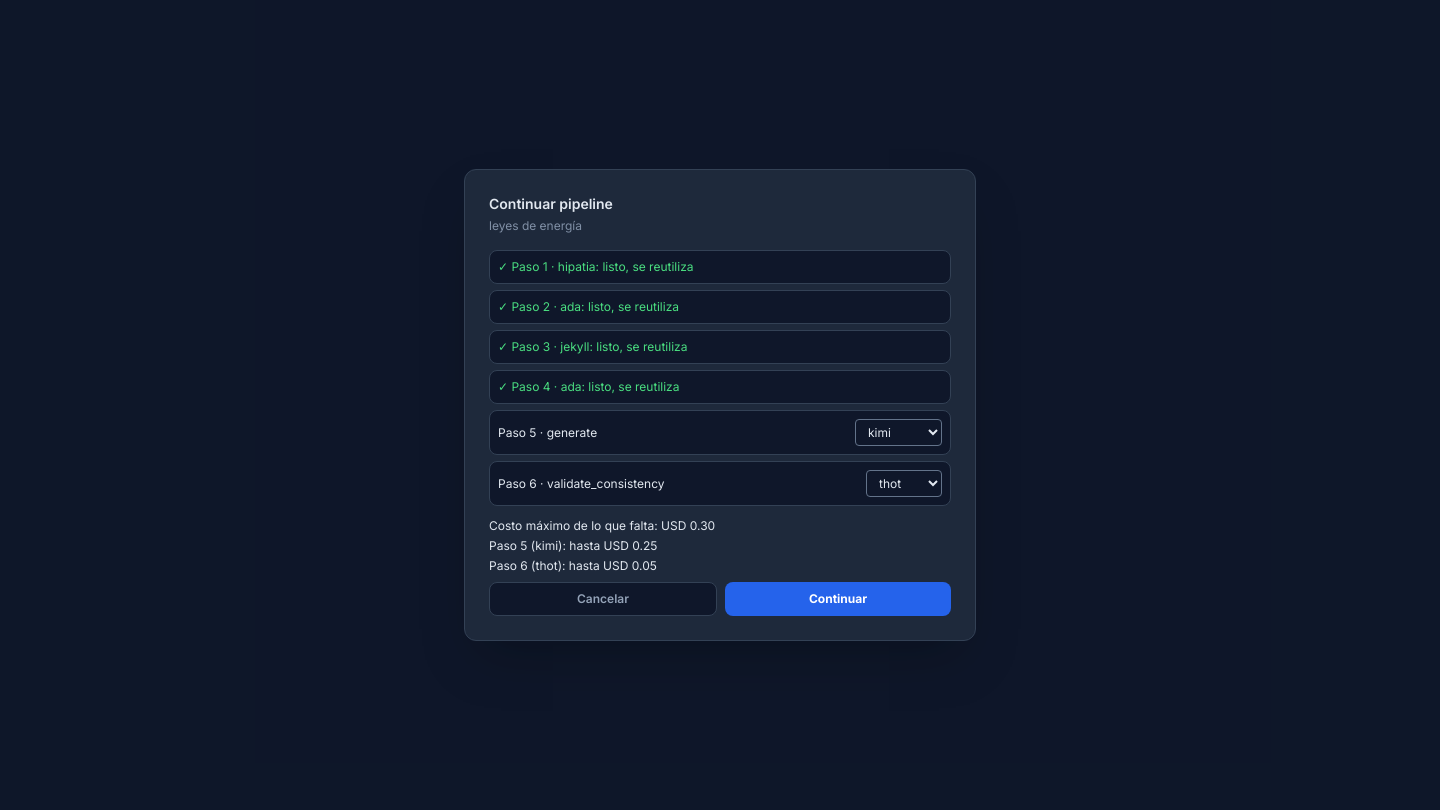
Scenario: ContinuarPipelineModal -- reasignar facetas › un auditor igual a quien produjo avisa y bloquea Continuar
This screenshot has width=1440, height=810.
Expected: the button "Continuar" is enabled, [725, 582, 951, 616]
Select "ada" in the dropdown named "Paso 6 · validate_consistency" at point(904, 484), box [866, 470, 942, 497]
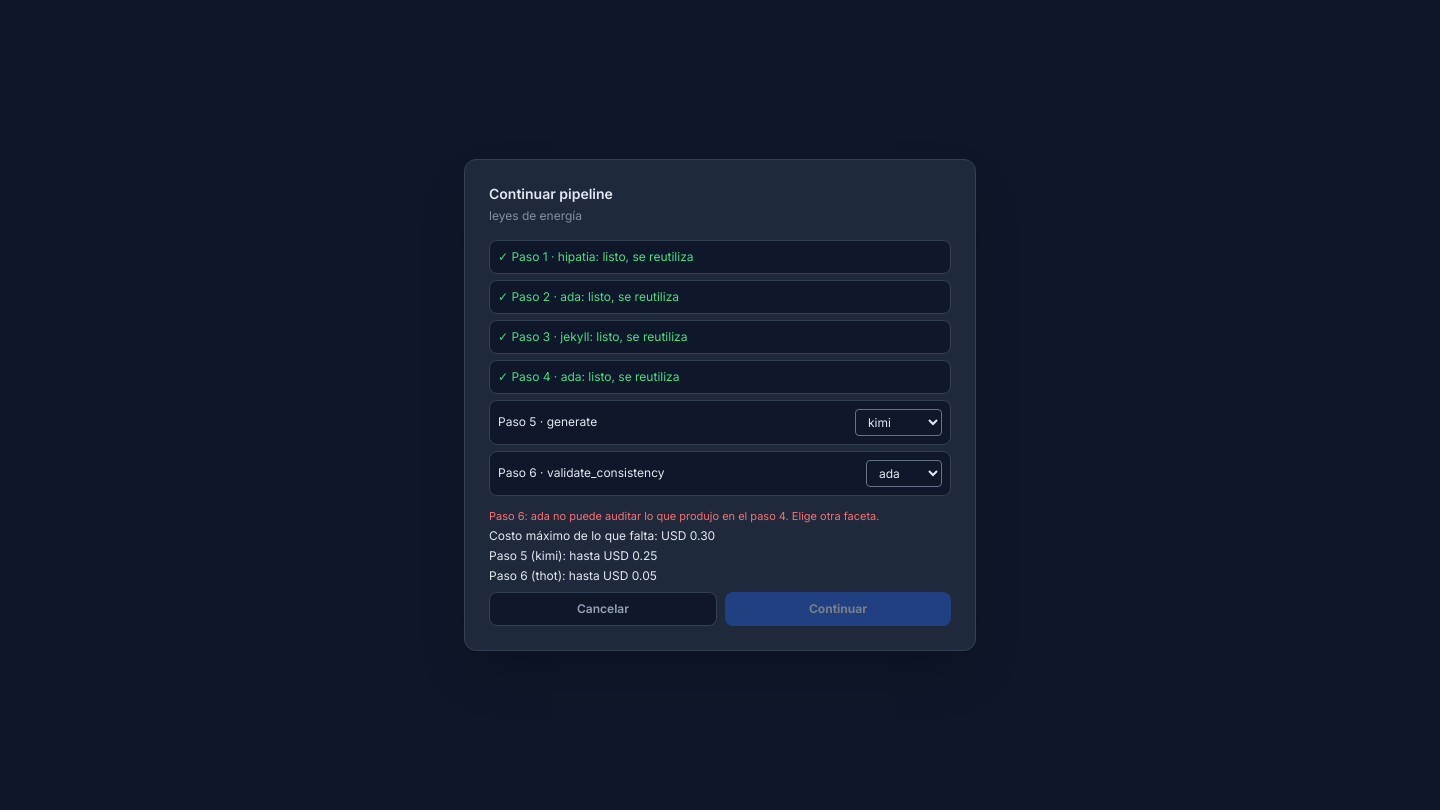
Now the button "Continuar" is disabled, box [725, 592, 951, 626]
